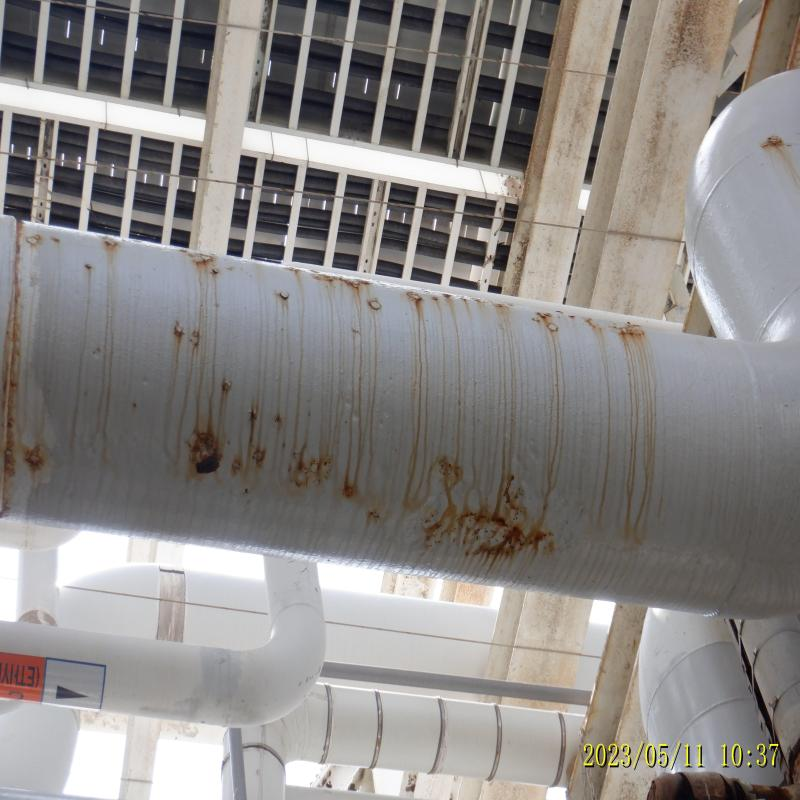corrosion: (449, 502, 530, 549), (195, 424, 220, 482)
